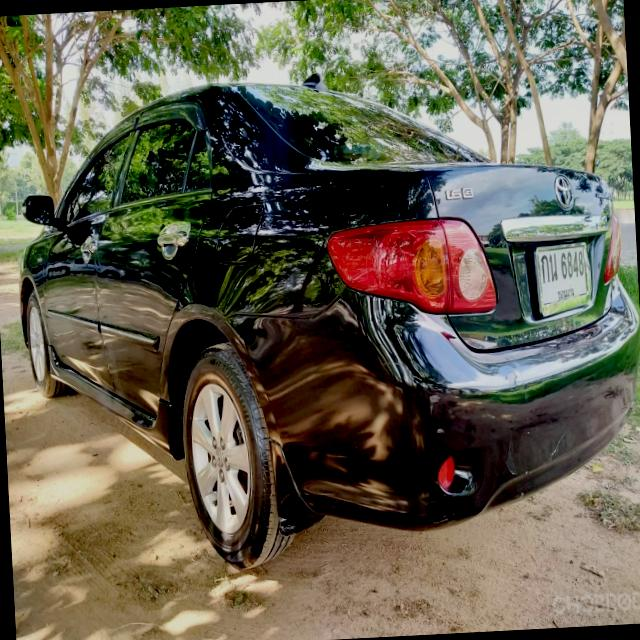license_plate: (527, 239, 598, 322)
